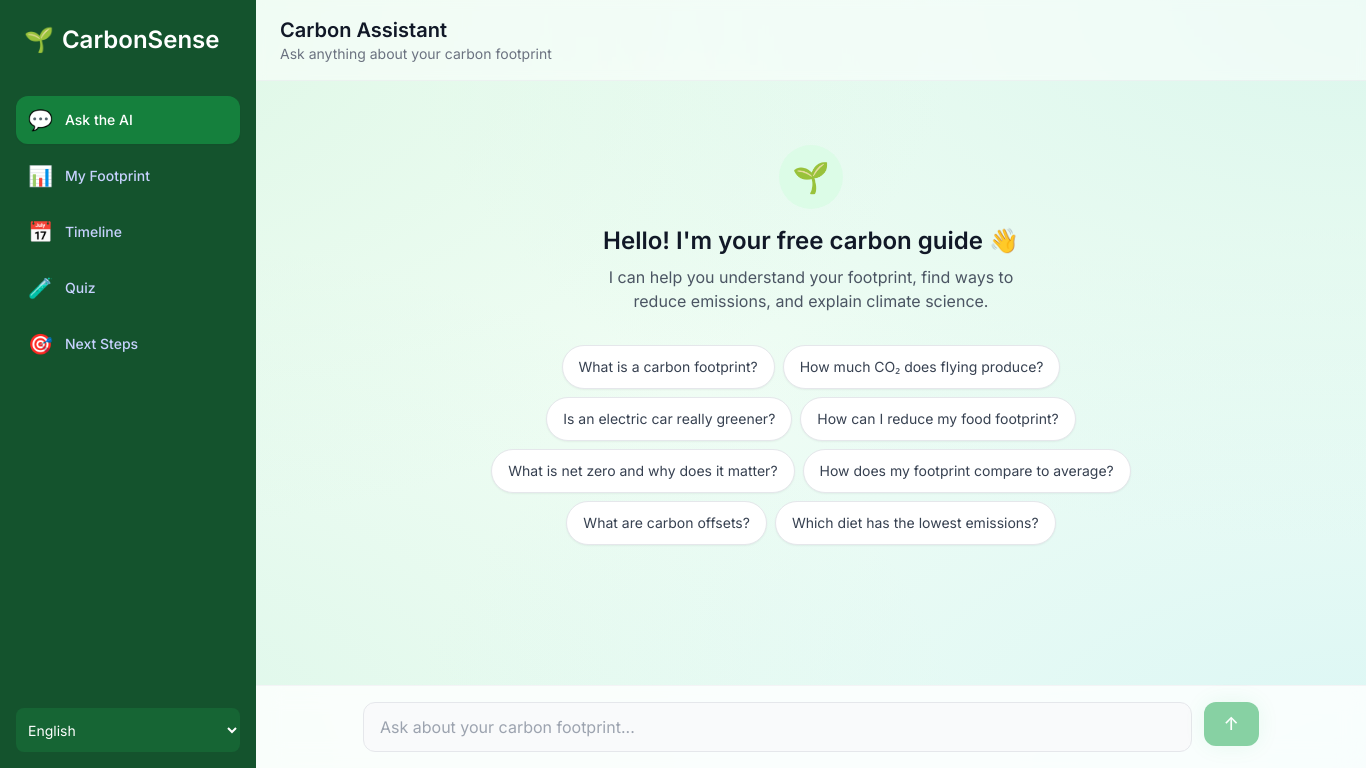
CarbonSense Application › renders chat view by default and accepts input
The width and height of the screenshot is (1366, 768).
Expected: the navigation bar named "Main navigation" is shown, [0,0,256,767]
Type "How do I reduce my footprint?" into the text box with placeholder "Ask about your carbon footprint..." at (777, 727), box [363,702,1192,752]
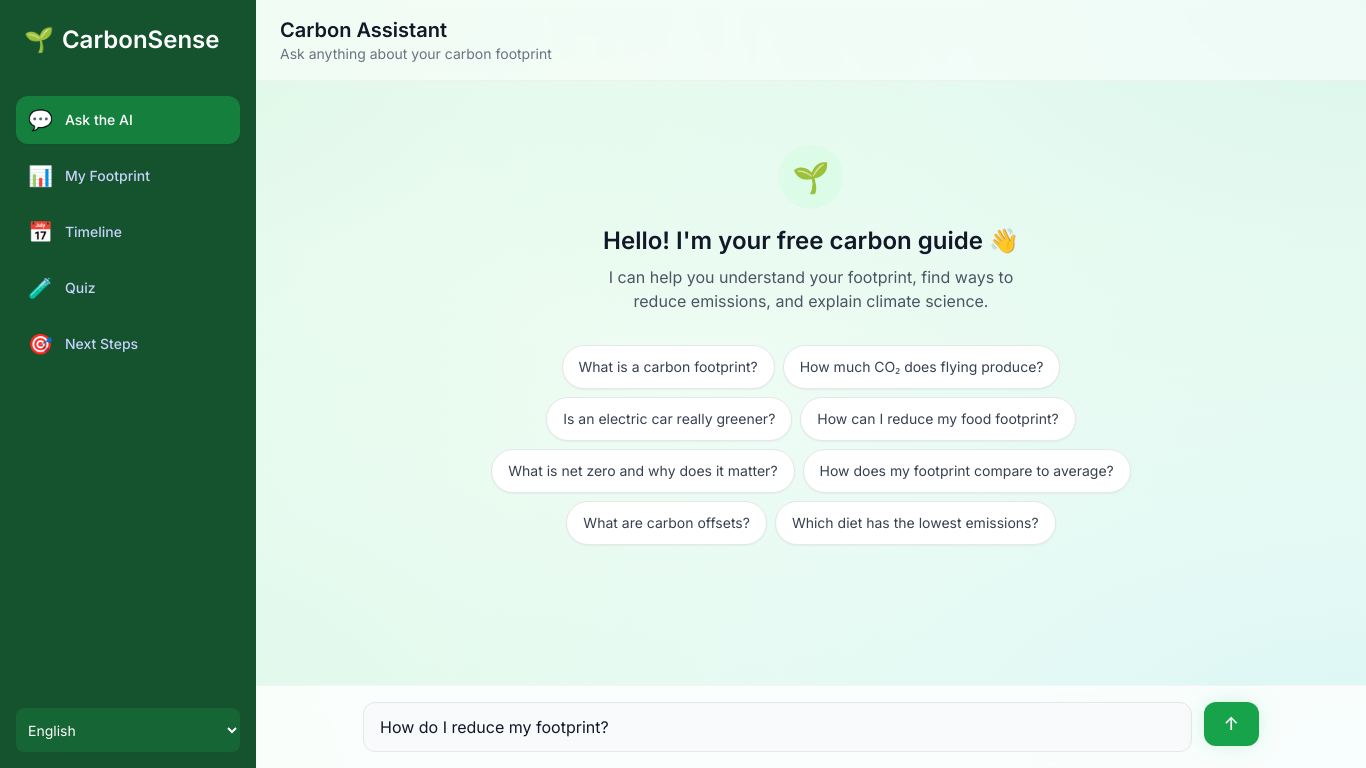
Submit the form with placeholder "Ask about your carbon footprint", box [363,702,1259,752]
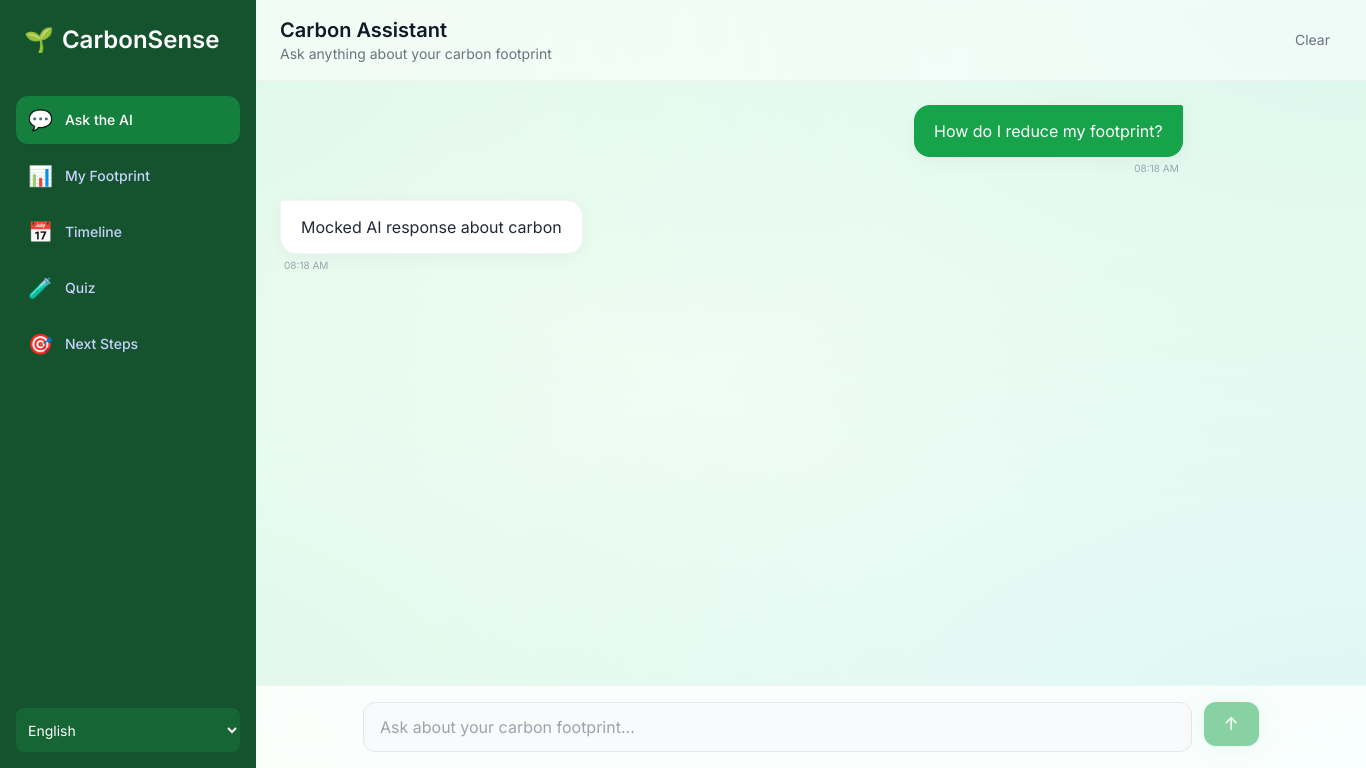
Result: the text "How do I reduce my footprint?" is shown at [914,105,1183,157]
Result: the text "Mocked AI response about carbon" is shown at [301,215,562,239]
